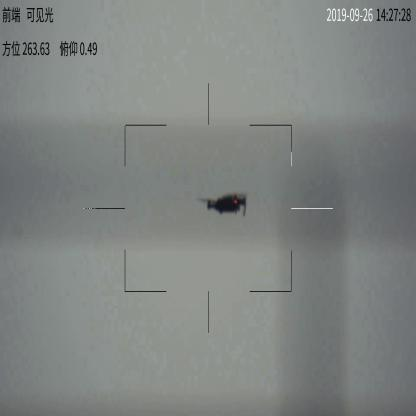uav: (198, 193, 250, 216)
